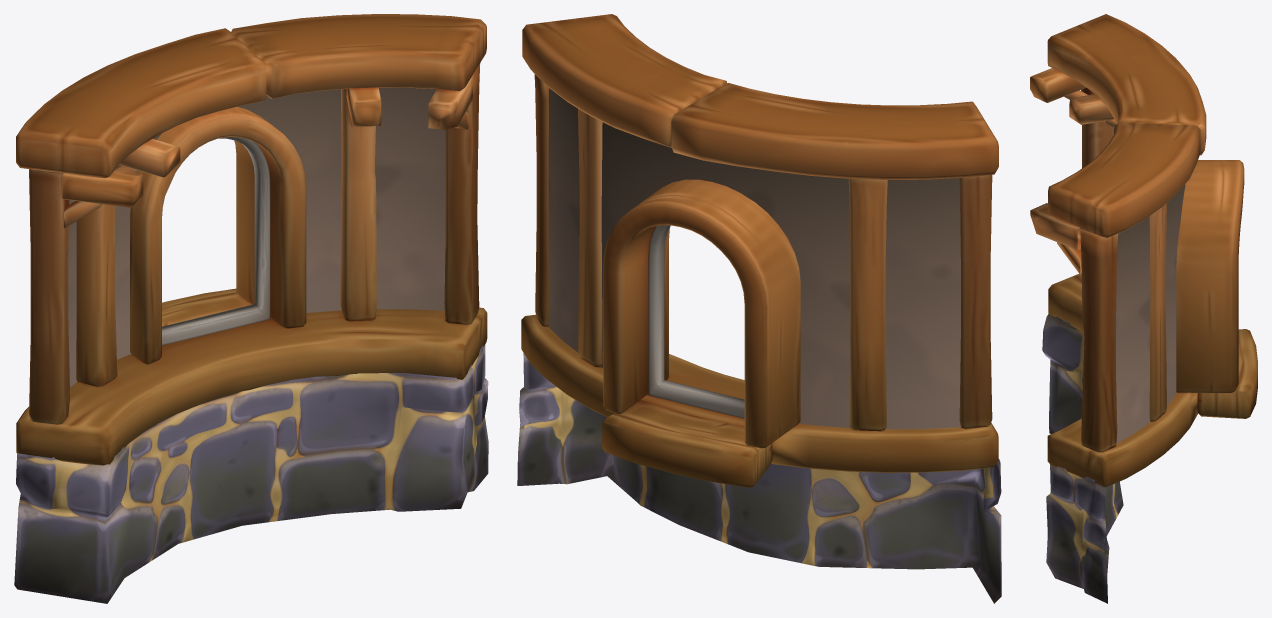
The model's file is Wall_LongA.fbx.
3 renders of one model, left to right at view 1: azimuth 30°, elevation 25°; view 2: azimuth 150°, elevation 25°; view 3: azimuth 270°, elevation 25°, orthographic. The views are drawn at different scales.
Visible parts, largest first — view 1: Wood, U_Wall_LongA, Wall; view 2: Wood, Wall, U_Wall_LongA; view 3: Wood, U_Wall_LongA, Wall.
Boxes of the visible parts, left/top/right/bottom form: Wood: left=16, top=14, right=487, bottom=465; U_Wall_LongA: left=14, top=345, right=488, bottom=603; Wall: left=36, top=87, right=445, bottom=387; Wood: left=521, top=14, right=998, bottom=487; Wall: left=548, top=88, right=960, bottom=429; U_Wall_LongA: left=517, top=353, right=1001, bottom=603; Wood: left=1030, top=14, right=1257, bottom=487; U_Wall_LongA: left=1042, top=314, right=1123, bottom=603; Wall: left=1114, top=128, right=1185, bottom=443.
Bounding box in the file's own units: 455 × 421 × 220.
3 materials, 3 textured.
